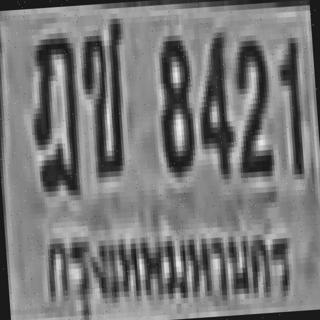A10: (78, 13, 130, 173)
A14: (25, 27, 82, 192)
N01: (275, 35, 304, 172)
N02: (231, 34, 272, 173)
N04: (191, 27, 233, 176)
N08: (152, 30, 194, 173)
P04: (34, 210, 296, 320)
